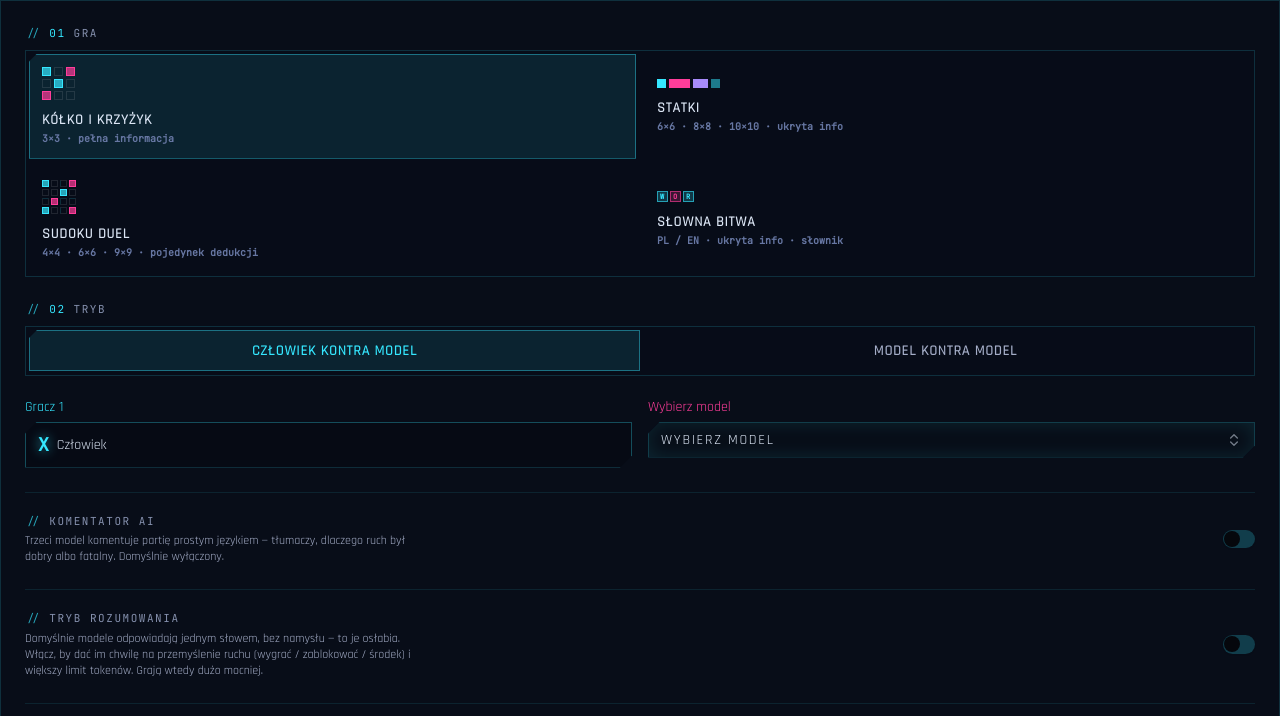
Test: SetupScreen › offers Word Battle with a language (pl/en) selector
Click the tab "Słowna bitwa" at (706, 222), box [644,178,1251,262]
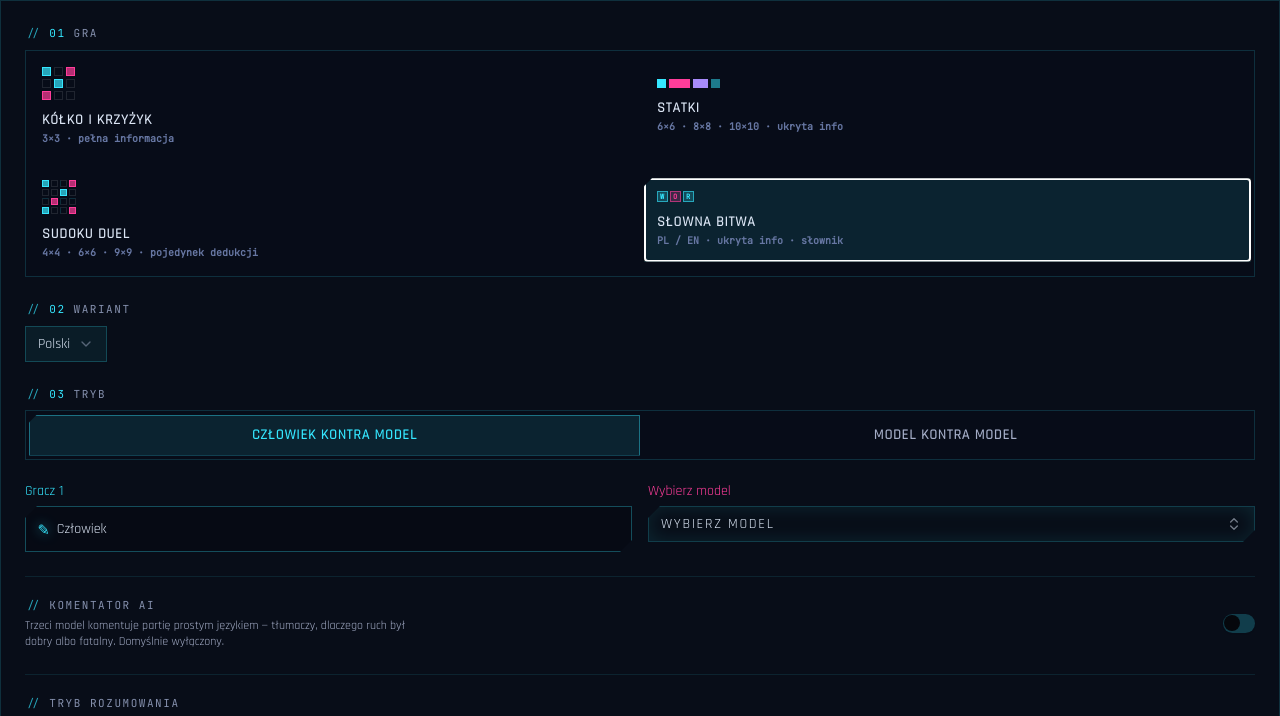
Now the text "Wariant" is shown, box [74,301,131,318]
Now the text "Polski" is shown, box [38,334,70,354]
